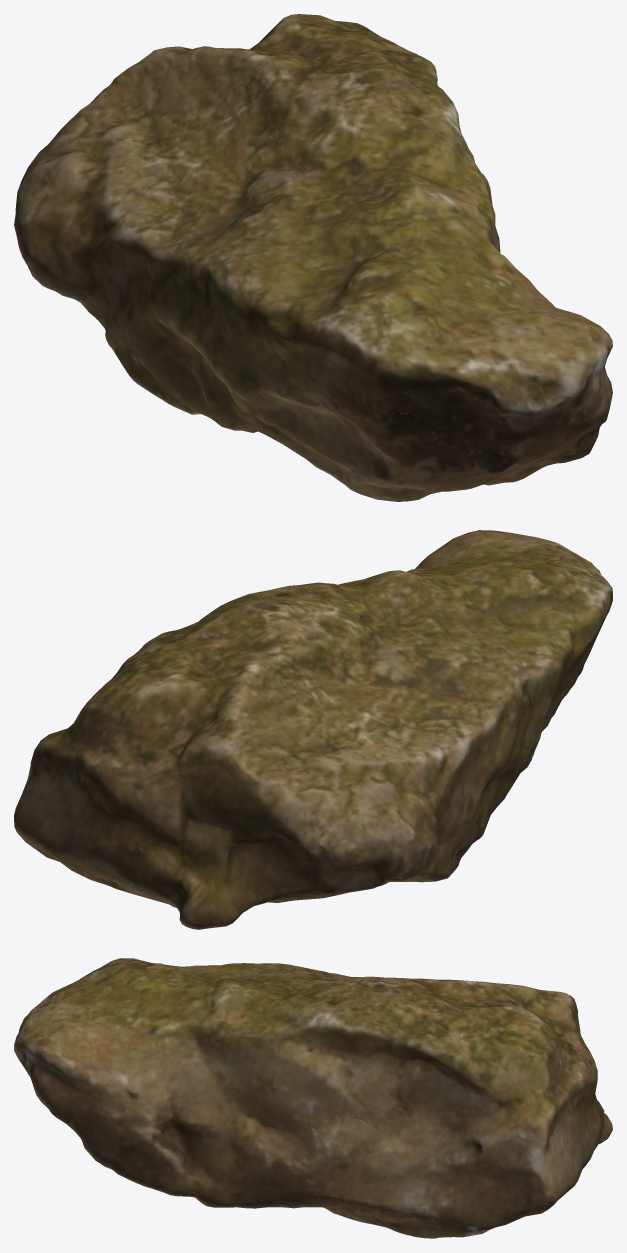
The model's file is moss_rock_5.glb.
3 renders of one model, top to bottom at view 1: azimuth 30°, elevation 25°; view 2: azimuth 150°, elevation 25°; view 3: azimuth 270°, elevation 25°, orthographic. The views are drawn at different scales.
Parts seen in each view (by area): view 1: moss_rock_5; view 2: moss_rock_5; view 3: moss_rock_5.
Part boxes in pixels (box(x1,y1,x2,y2)): moss_rock_5: box(14, 14, 612, 501); moss_rock_5: box(14, 530, 612, 929); moss_rock_5: box(14, 958, 612, 1238).
Bounding box in the file's own units: 0.606 × 0.4023 × 1.
Materials: 1 (1 with a texture image).
